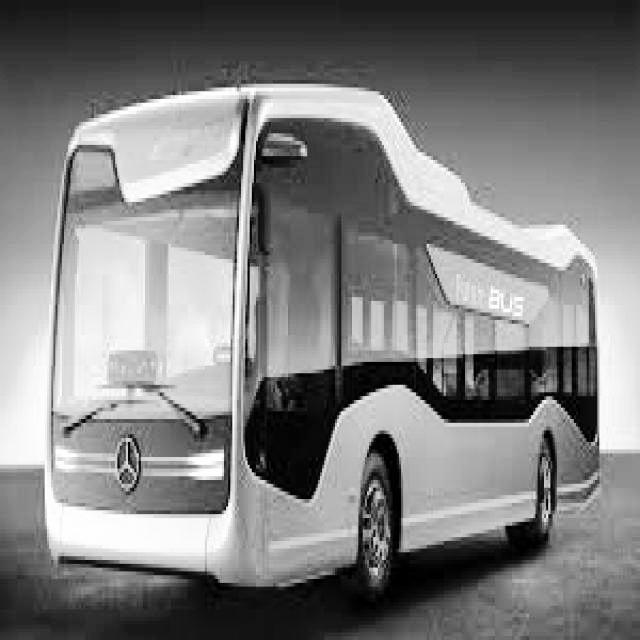Bus: (40, 90, 603, 610)
